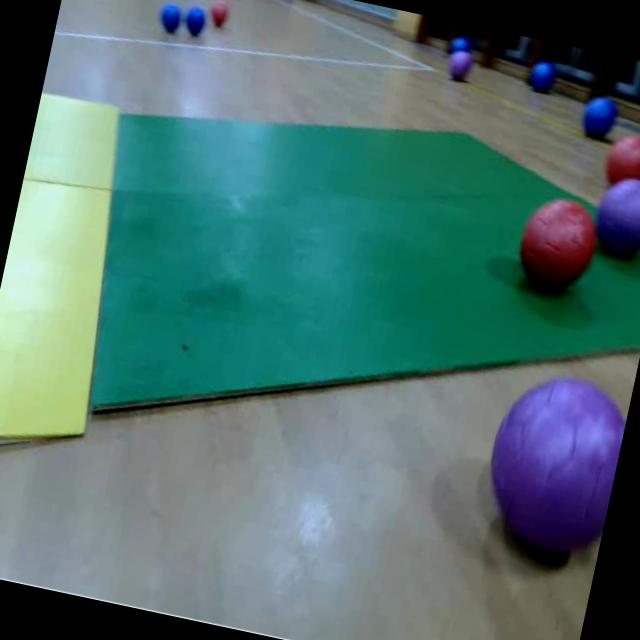blue_ball: (578, 94, 620, 142), (529, 60, 556, 94), (158, 1, 185, 31), (183, 7, 206, 36)
purple_ball: (472, 364, 632, 568), (589, 175, 640, 261), (448, 50, 476, 82)
red_ball: (510, 190, 604, 298), (602, 129, 640, 192)
